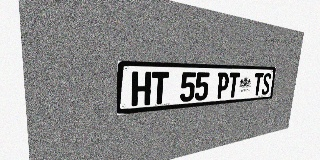5: (180, 72, 196, 102), (194, 72, 210, 101)
H: (131, 71, 151, 106)
P: (216, 72, 230, 99)
S: (261, 73, 272, 95)
T: (151, 72, 169, 105), (227, 72, 240, 98), (252, 73, 264, 96)
